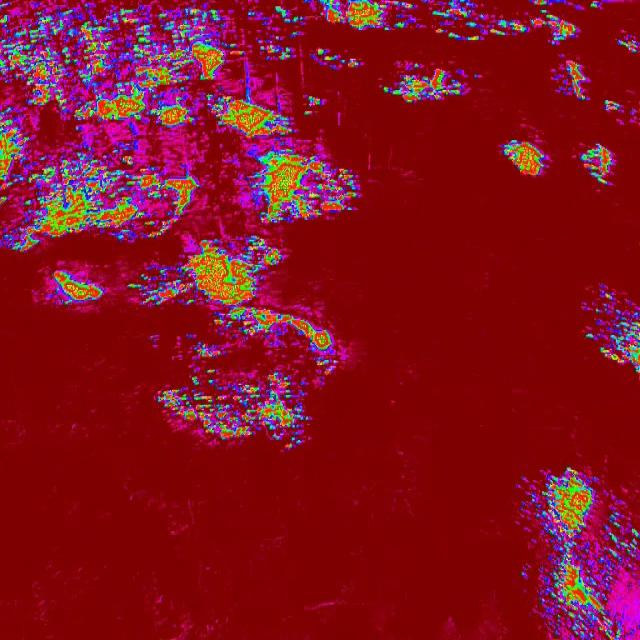fire: (0, 0, 359, 245), (512, 466, 640, 640), (147, 240, 277, 386), (320, 0, 588, 41), (280, 306, 350, 449), (159, 387, 278, 441), (582, 284, 640, 376), (374, 61, 482, 108), (44, 260, 110, 310), (499, 140, 554, 186), (578, 137, 620, 191), (556, 55, 592, 101), (603, 96, 640, 122), (616, 26, 640, 54)
